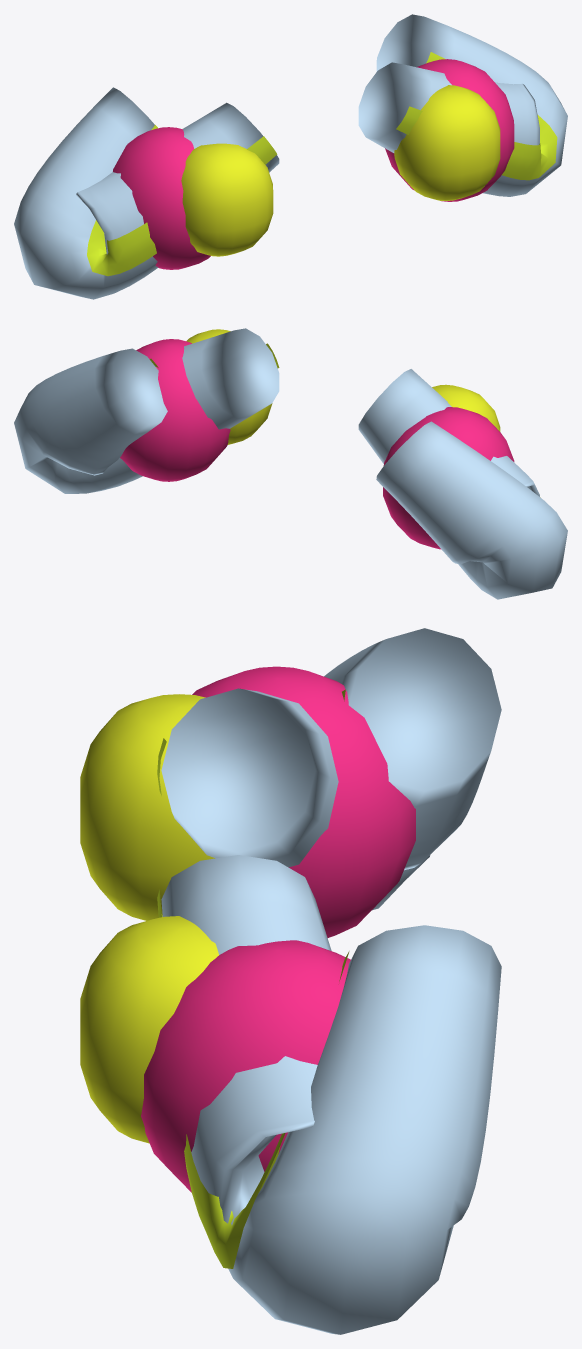
The model's file is garden-material-splits.fbx.
3 renders of one model, top to bottom at view 1: azimuth 30°, elevation 25°; view 2: azimuth 150°, elevation 25°; view 3: azimuth 270°, elevation 25°, orthographic. The views are drawn at different scales.
Visible parts, largest first — view 1: Ovelle__CuffL, Ovelle__CuffR, Zivvi__HandR, Zivvi__HandL, Zivvi__CuffTrimL, Zivvi__CuffTrimR, Ovelle__CuffTrimL, Ovelle__CuffTrimR; view 2: Ovelle__CuffL, Ovelle__CuffR, Zivvi__CuffTrimR, Zivvi__CuffTrimL, Zivvi__HandL, Zivvi__HandR; view 3: Ovelle__CuffR, Ovelle__CuffL, Zivvi__CuffTrimR, Zivvi__CuffTrimL, Zivvi__HandL, Zivvi__HandR, Ovelle__CuffTrimR.
Part boxes in pixels (x1,y1,x2,y2): Ovelle__CuffL: [14, 87, 279, 299]; Ovelle__CuffR: [358, 14, 567, 196]; Zivvi__HandR: [394, 85, 500, 200]; Zivvi__HandL: [181, 143, 273, 256]; Zivvi__CuffTrimL: [113, 127, 210, 269]; Zivvi__CuffTrimR: [385, 59, 514, 201]; Ovelle__CuffTrimL: [87, 125, 277, 276]; Ovelle__CuffTrimR: [396, 52, 557, 180]; Ovelle__CuffL: [358, 369, 567, 599]; Ovelle__CuffR: [14, 328, 279, 493]; Zivvi__CuffTrimR: [120, 339, 230, 481]; Zivvi__CuffTrimL: [383, 407, 514, 549]; Zivvi__HandL: [432, 384, 500, 431]; Zivvi__HandR: [186, 329, 272, 444]; Ovelle__CuffR: [161, 855, 501, 1334]; Ovelle__CuffL: [161, 628, 501, 910]; Zivvi__CuffTrimR: [141, 940, 350, 1192]; Zivvi__CuffTrimL: [192, 666, 415, 937]; Zivvi__HandL: [80, 694, 215, 920]; Zivvi__HandR: [80, 916, 218, 1143]; Ovelle__CuffTrimR: [157, 889, 349, 1268].
Size of the model in its own units: 1.47 by 0.4577 by 0.4979.
